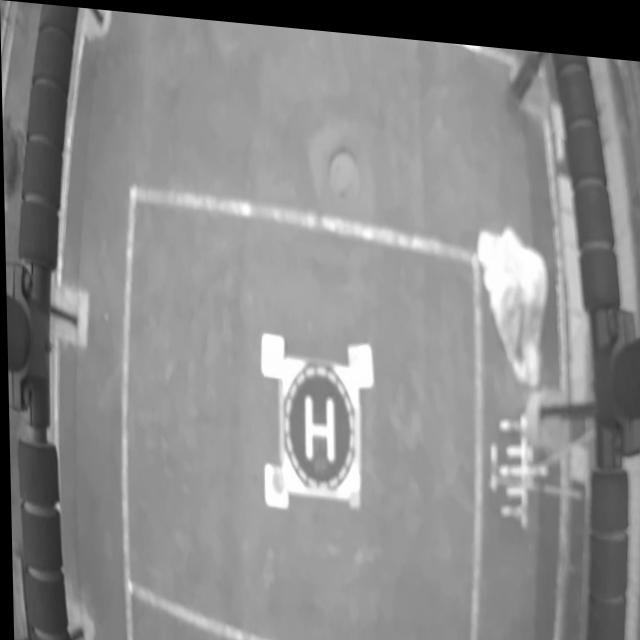Helipad: (304, 391, 332, 455)
